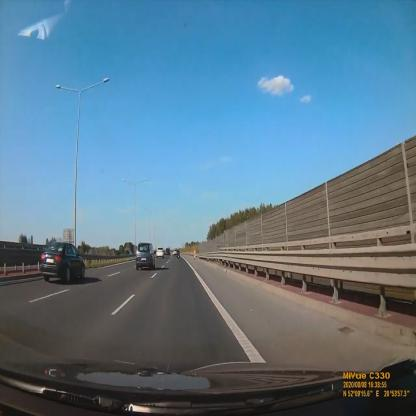cars: (41, 241, 85, 282), (136, 241, 155, 271), (156, 247, 164, 259)
